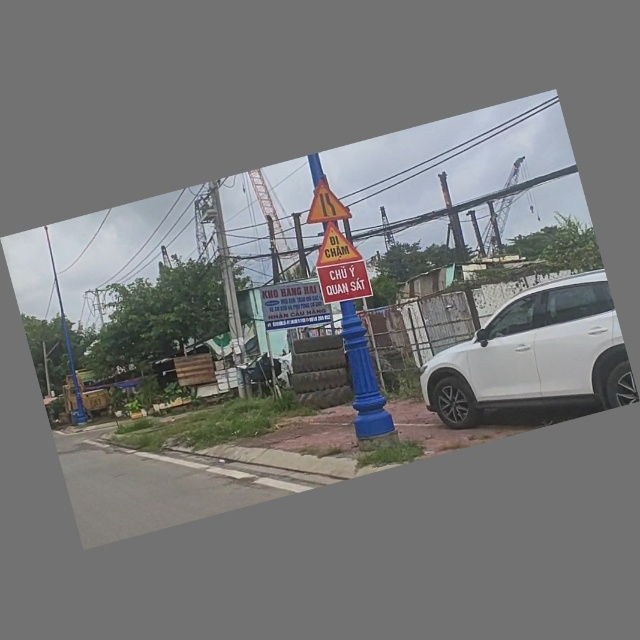W.203c: (297, 174, 354, 229)
W.245a: (307, 217, 364, 271)
